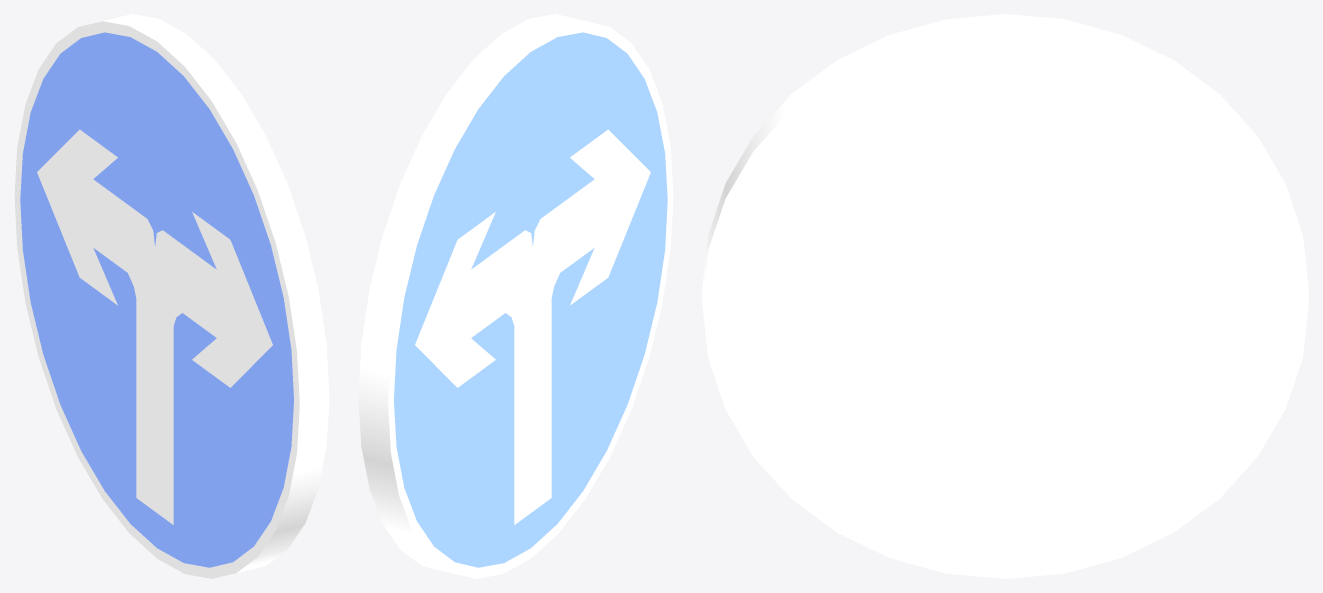
The model's file is Turn_Left_And_Right.glb.
3 views of the same model, side by side, from view 1: azimuth 30°, elevation 25°; view 2: azimuth 150°, elevation 25°; view 3: azimuth 270°, elevation 25° (orthographic). The views are drawn at different scales.
Visible parts, largest first — view 1: Turn_Left_And_Right; view 2: Turn_Left_And_Right; view 3: Turn_Left_And_Right.
Boxes of the visible parts, x1=… form: Turn_Left_And_Right: x1=14, y1=14, x2=329, y2=578; Turn_Left_And_Right: x1=358, y1=14, x2=673, y2=578; Turn_Left_And_Right: x1=702, y1=14, x2=1308, y2=578.
Bounding box in the file's own units: 0.0643 × 1 × 1.
